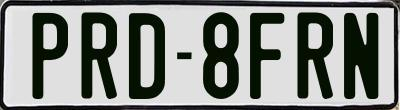8: (203, 10, 245, 103)
D: (129, 11, 170, 100)
F: (248, 11, 283, 97)
N: (343, 11, 381, 99)
P: (32, 12, 72, 101)
R: (79, 10, 118, 100), (294, 11, 331, 102)
